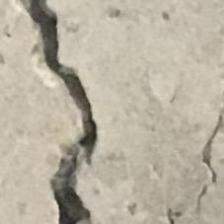Crack: (24, 0, 140, 224)
